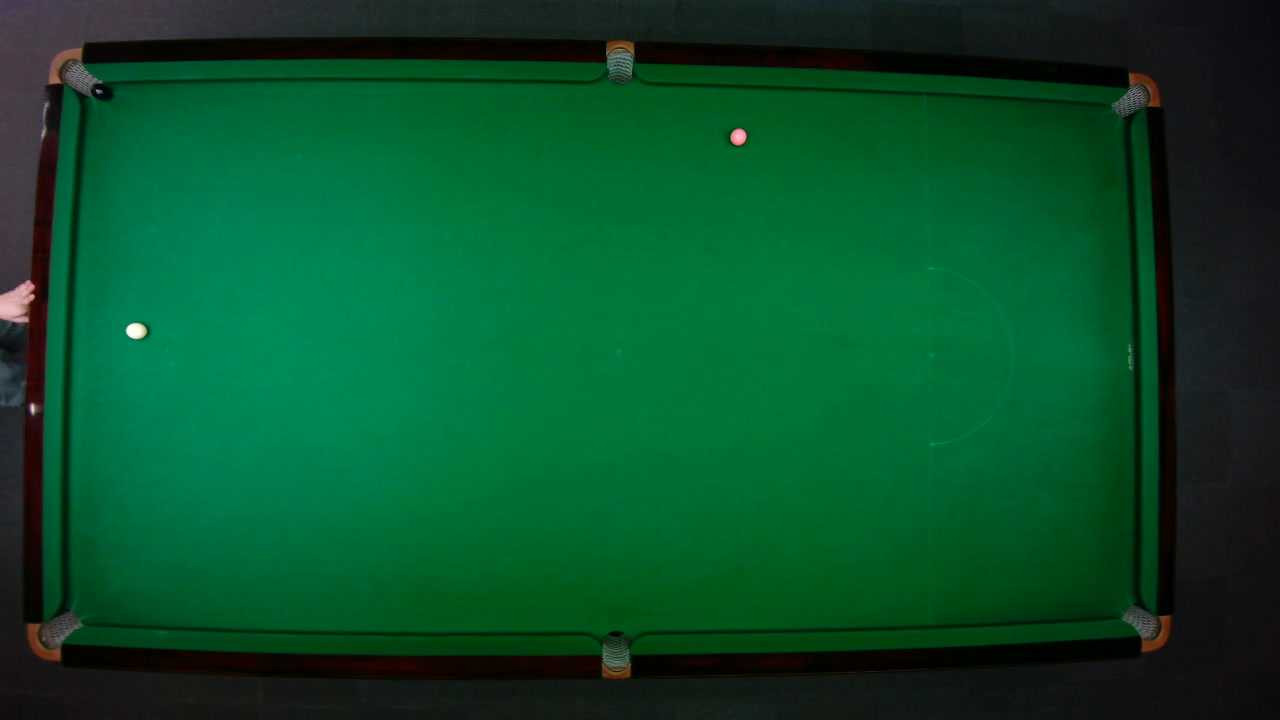bag: (25, 609, 83, 661), (46, 46, 103, 96), (1119, 603, 1171, 651), (1108, 72, 1161, 118), (600, 629, 630, 680), (605, 38, 633, 85)
black: (90, 82, 111, 100)
pink: (727, 126, 748, 146)
white: (124, 320, 148, 339)
zone: (927, 266, 1013, 445)
